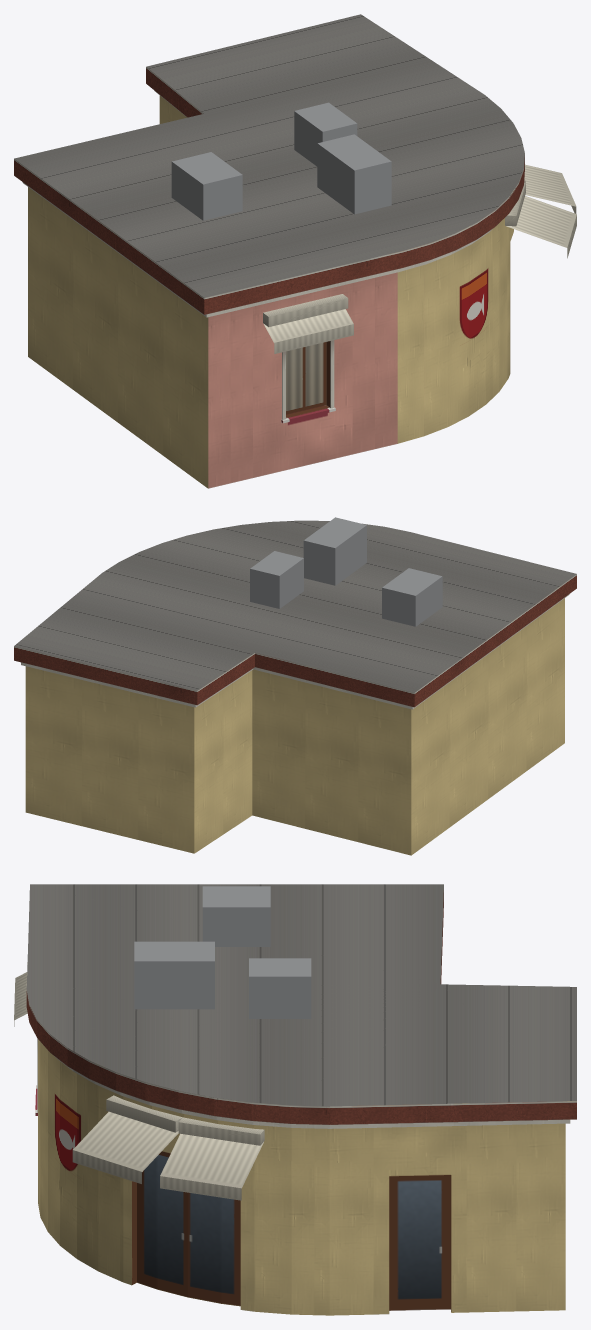
File: SM_Molo_Edificio_A1A2.fbx
3 renders of one model, top to bottom at view 1: azimuth 30°, elevation 25°; view 2: azimuth 150°, elevation 25°; view 3: azimuth 270°, elevation 25°, orthographic. The views are drawn at different scales.
Parts seen in each view (by area): view 1: SM_Molo_Edificio_A1A2; view 2: SM_Molo_Edificio_A1A2; view 3: SM_Molo_Edificio_A1A2.
Boxes of the visible parts, x1=… form: SM_Molo_Edificio_A1A2: x1=14, y1=14, x2=576, y2=488; SM_Molo_Edificio_A1A2: x1=14, y1=517, x2=576, y2=855; SM_Molo_Edificio_A1A2: x1=14, y1=884, x2=576, y2=1315.
Size of what is drawn, in the model's own units: 920 by 907 by 465.
1 material, 1 textured.
